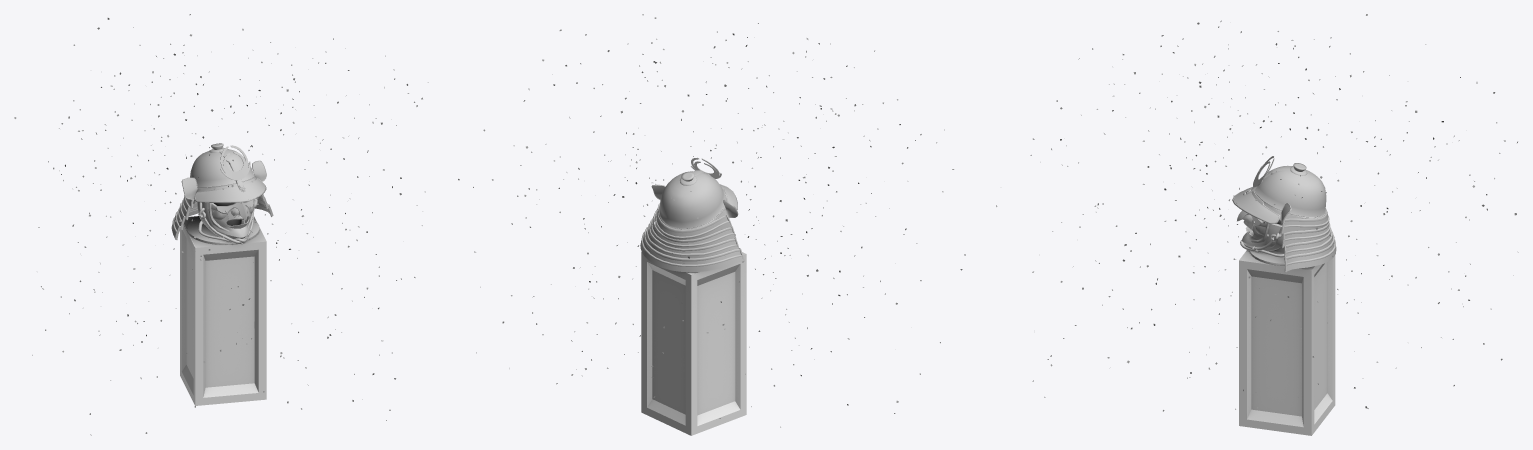
The model's file is HelmetPresentationLightMap.fbx.
3 renders of one model, left to right at view 1: azimuth 30°, elevation 25°; view 2: azimuth 150°, elevation 25°; view 3: azimuth 270°, elevation 25°, orthographic. The views are drawn at different scales.
Visible parts, largest first — view 1: Helmet; view 2: Helmet; view 3: Helmet.
Boxes of the visible parts, left/top/right/bottom form: Helmet: left=14, top=14, right=428, bottom=435; Helmet: left=458, top=14, right=997, bottom=435; Helmet: left=1030, top=14, right=1518, bottom=435.
Bounding box in the file's own units: 2118 × 1741 × 2124.
